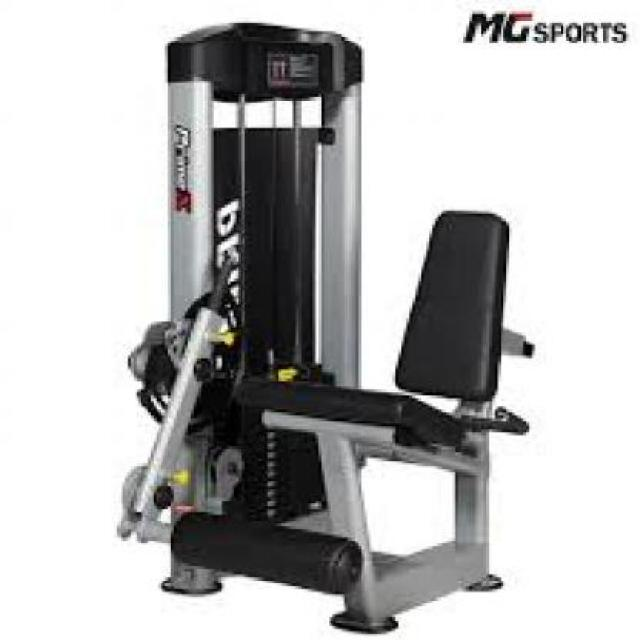leg extension: (99, 12, 546, 640)
